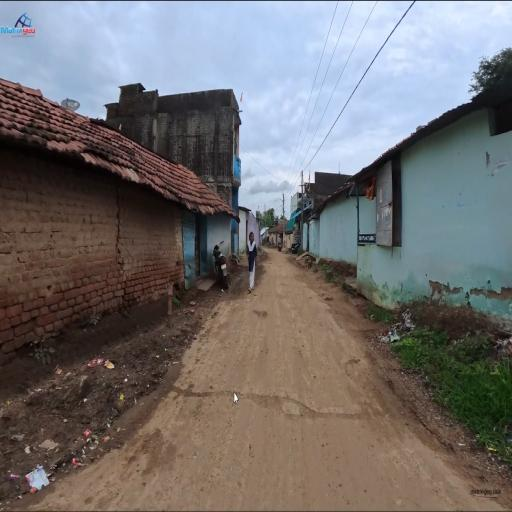longitudinal_crack: (170, 376, 377, 430)
